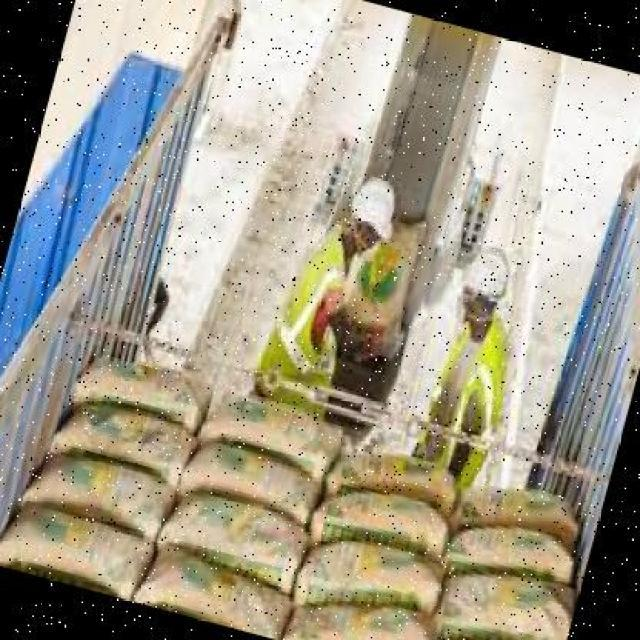gunny_bag: (0, 500, 152, 600), (157, 493, 310, 590), (136, 548, 291, 640), (195, 383, 335, 480), (23, 456, 179, 538), (180, 434, 320, 523), (55, 396, 194, 480), (75, 348, 215, 429), (295, 538, 445, 612), (437, 562, 579, 640), (311, 486, 453, 556), (329, 456, 458, 516), (443, 528, 575, 581), (456, 488, 577, 535), (286, 604, 438, 640)
